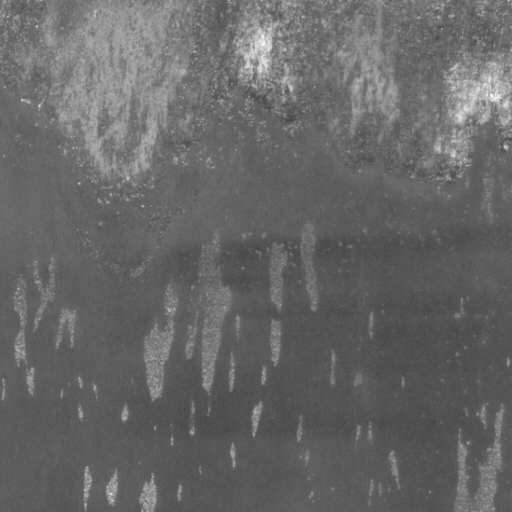qiaopi: (219, 1, 511, 187)
